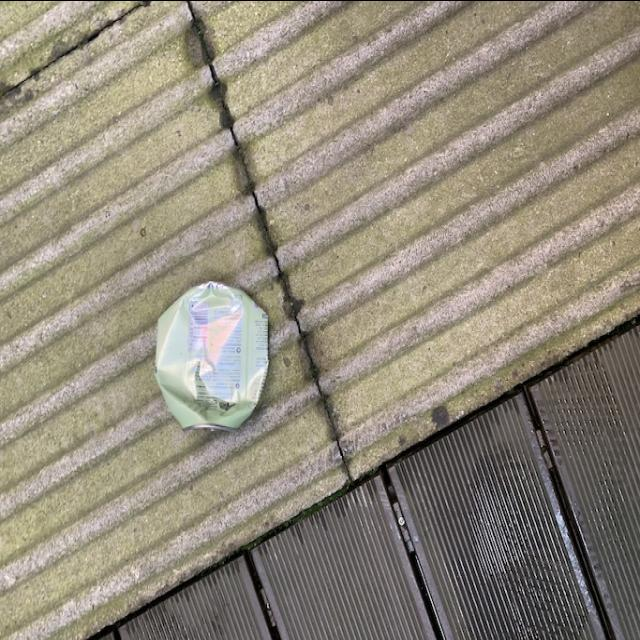Aluminum Can: (147, 264, 277, 440)
